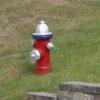Hydrant: (22, 13, 59, 79)
